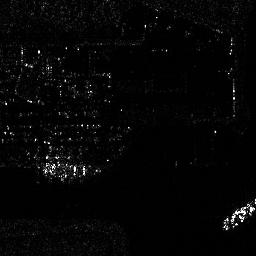ship: (222, 192, 256, 233)
